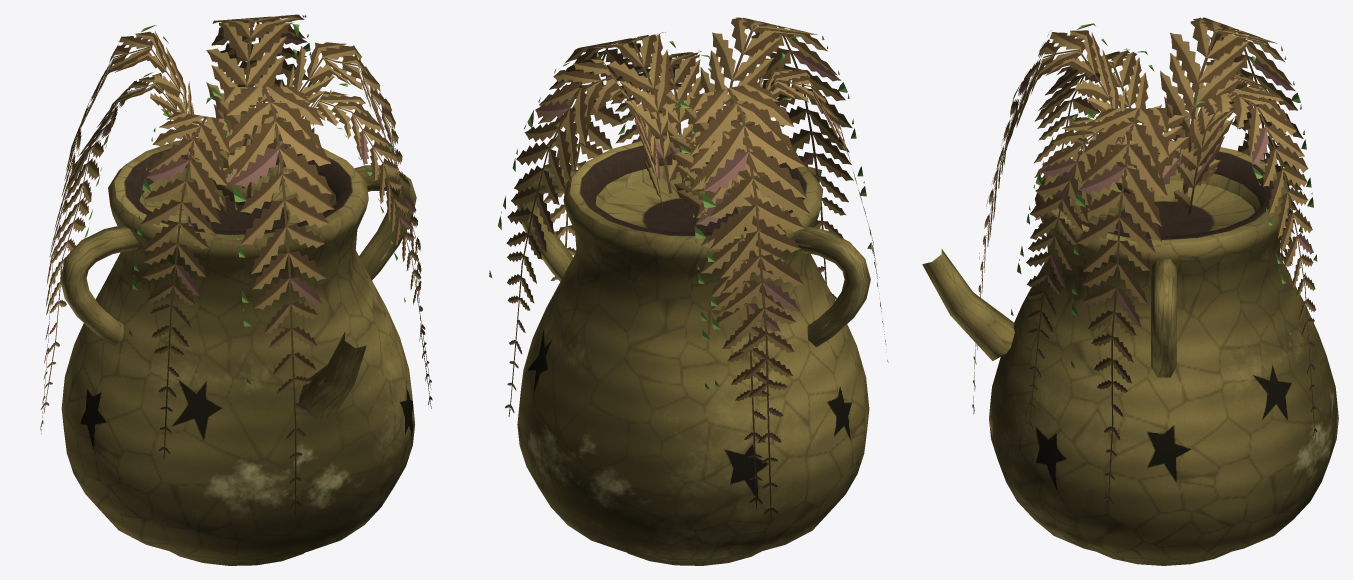
The model's file is mm7_deco_plant01b.glb.
3 renders of one model, left to right at view 1: azimuth 30°, elevation 25°; view 2: azimuth 150°, elevation 25°; view 3: azimuth 270°, elevation 25°, orthographic.
Visible parts, largest first — view 1: Plant; view 2: Plant; view 3: Plant.
Part boxes in pixels (x1,y1,x2,y2): Plant: (40,14,432,565); Plant: (489,17,888,565); Plant: (922,17,1338,565).
Size of the model in its own units: 1.22 by 1.51 by 1.2.
Materials: 2 (2 with a texture image).
